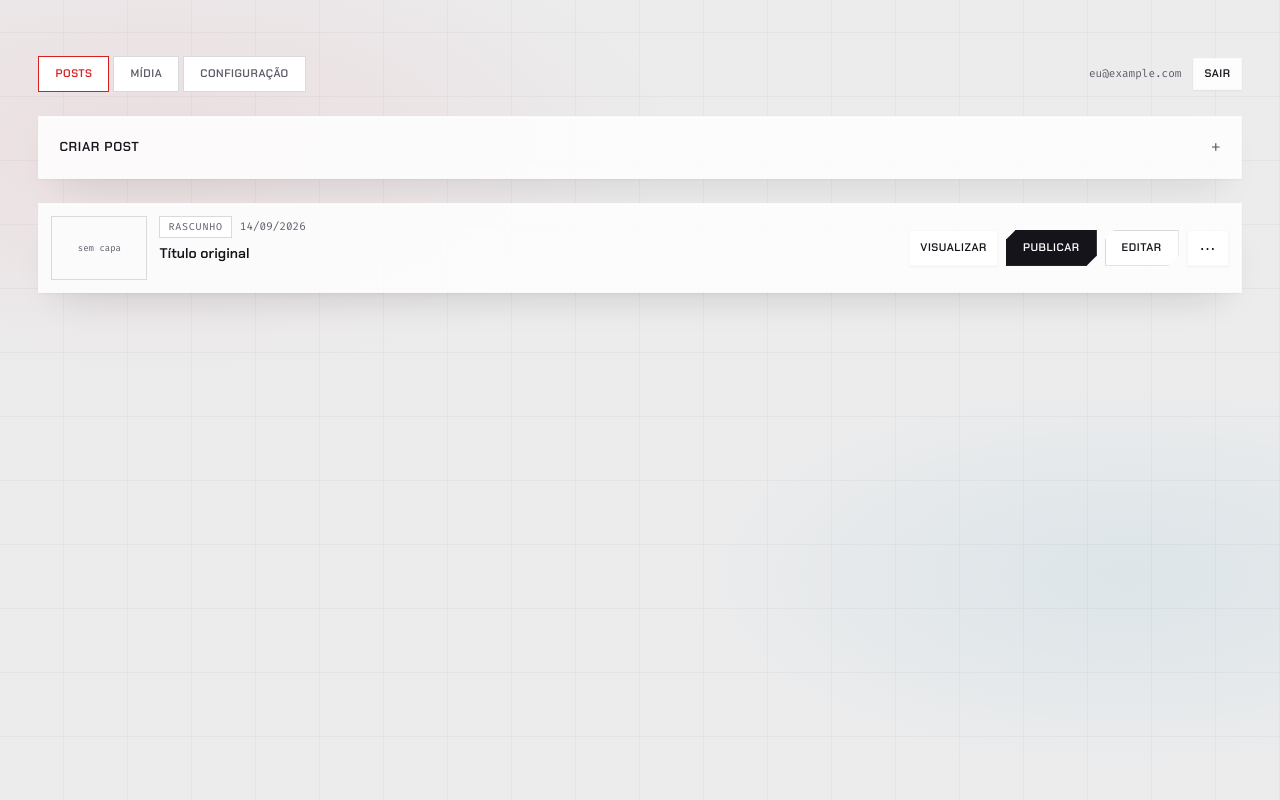
Test: excluir pela lista › a confirmação cita o título; "ok" apaga e o post some da lista
Click the button named "mais ações" at x=1208, y=248, box [1187,230,1229,266]
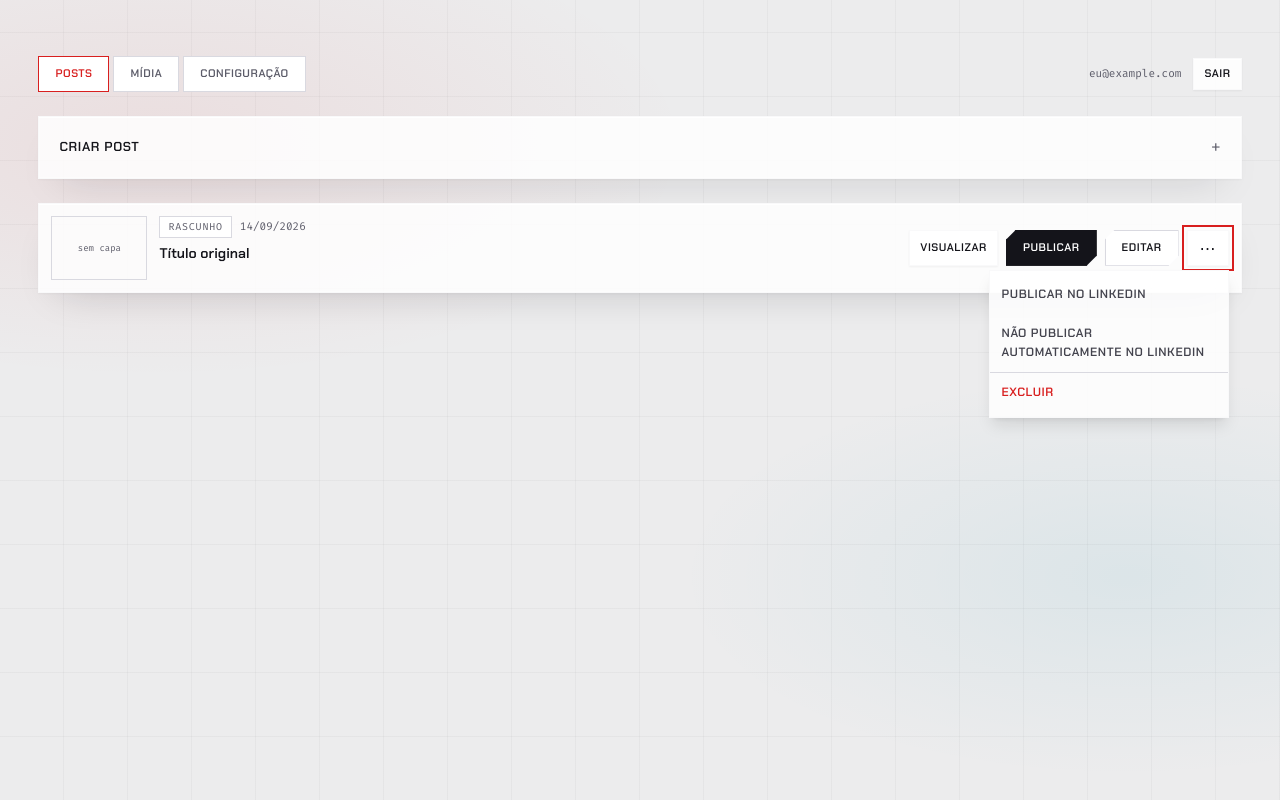
Click the menu item "excluir" at x=1109, y=392, box [990,372,1228,413]
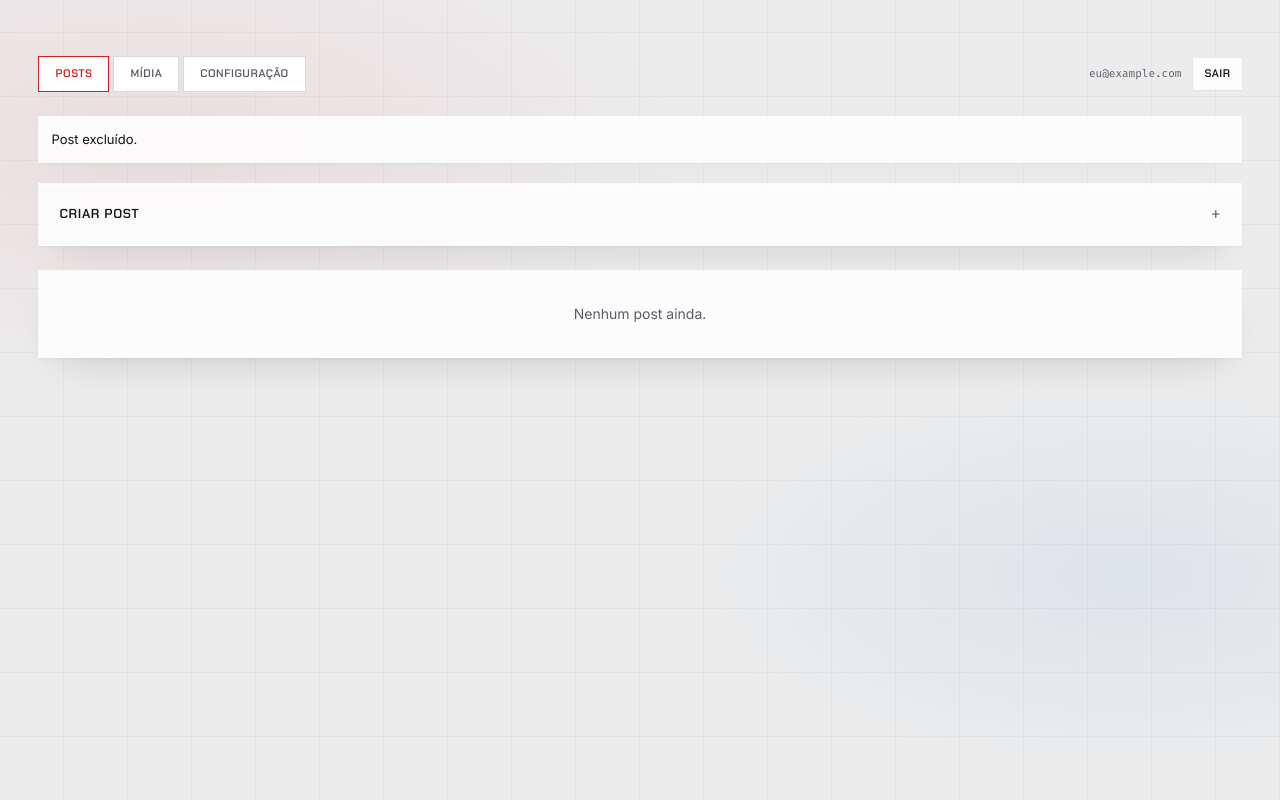
Result: the text "Título original" is gone
